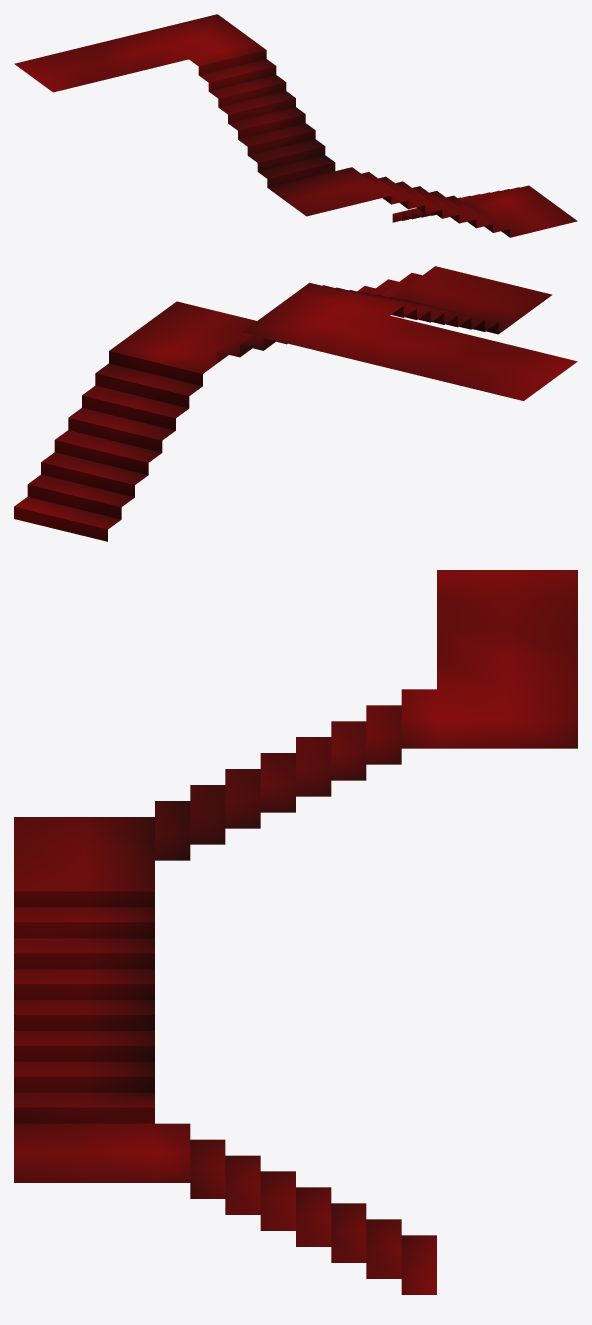
The model's file is castle_yard_1_stairs.obj.
The picture shows the model from 3 angles, top to bottom: view 1: azimuth 30°, elevation 25°; view 2: azimuth 150°, elevation 25°; view 3: azimuth 270°, elevation 25°; orthographic projection. The views are drawn at different scales.
Visible parts, largest first — view 1: Stairs; view 2: Stairs; view 3: Stairs.
Boxes of the visible parts, x1=… form: Stairs: x1=14, y1=14, x2=577, y2=237; Stairs: x1=14, y1=266, x2=577, y2=541; Stairs: x1=14, y1=570, x2=577, y2=1294.
Size of the model in its own units: 12 by 6 by 8.
